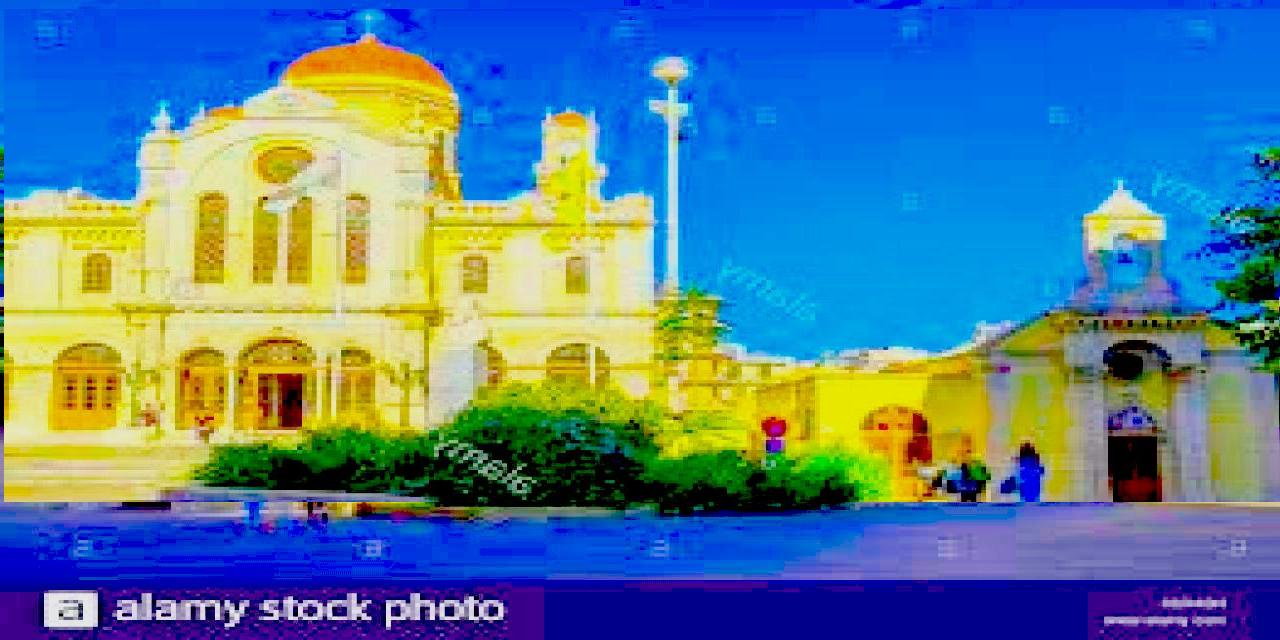Agios Minas: (5, 10, 1280, 503)
